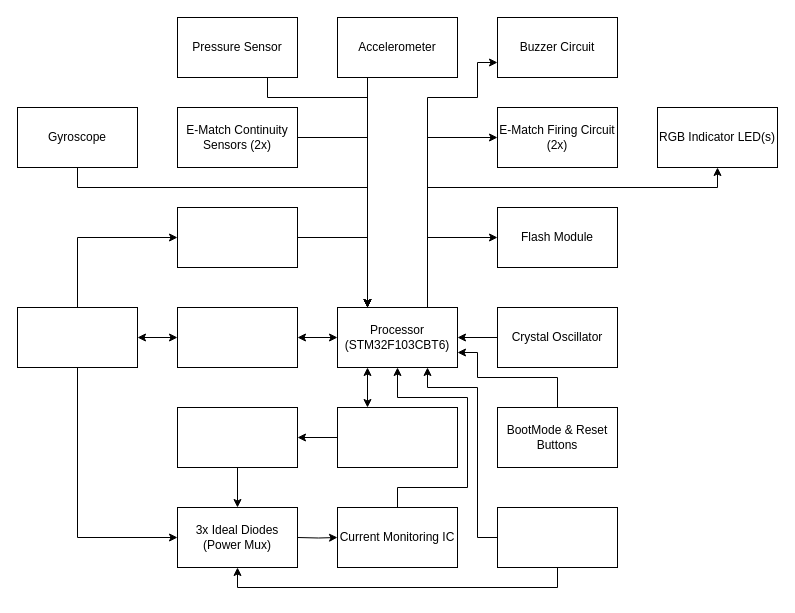
Some shapes in this 795 by 613 pixel diagram are drawn without their labels. Each missing label, with the centre of its shape:
CAN Interface (Isolated): (237,337)
Linear Regulator: (237,437)
Stack Edge Connector: (77,337)
SWD Header (Programming): (557,537)
USB Connector: (397,437)
Voltage Divider (Secondary Battery Measurement): (237,237)
